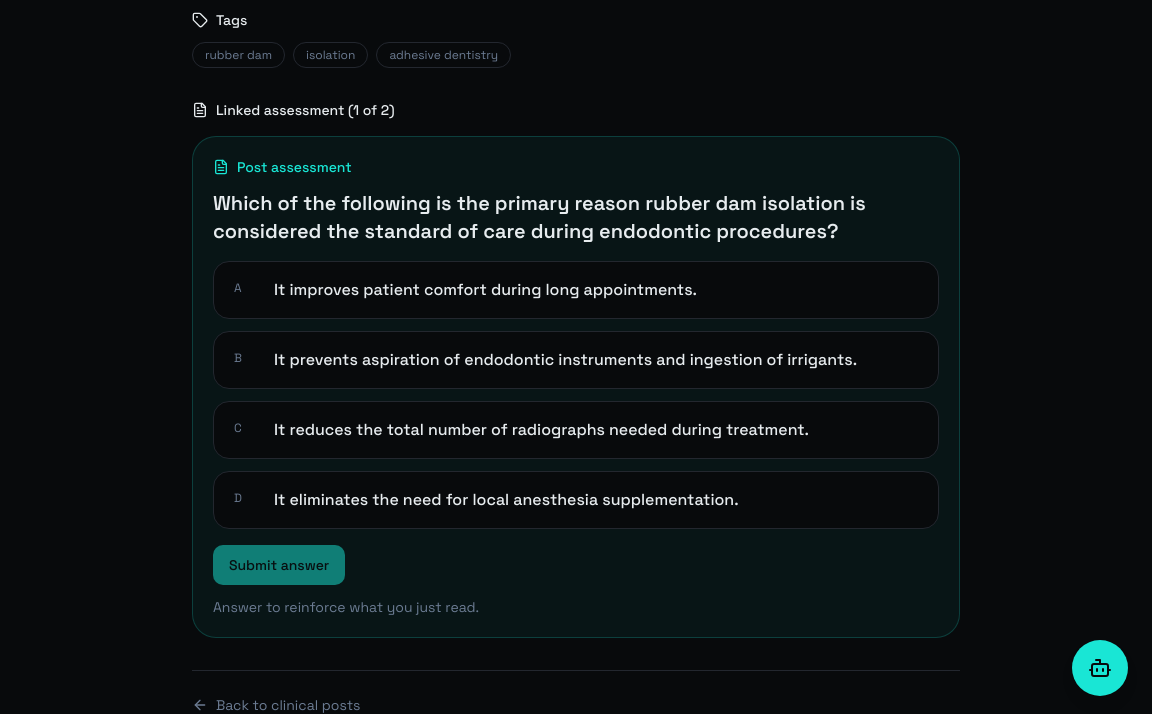
Test: clinical posts › renders linked assessment and records correct answer
The width and height of the screenshot is (1152, 714).
(page scrolled)
Expected: the heading "primary reason rubber dam isolation" is shown, [213, 190, 866, 244]
Click the button "prevents aspiration" at (576, 360), box [213, 331, 939, 389]
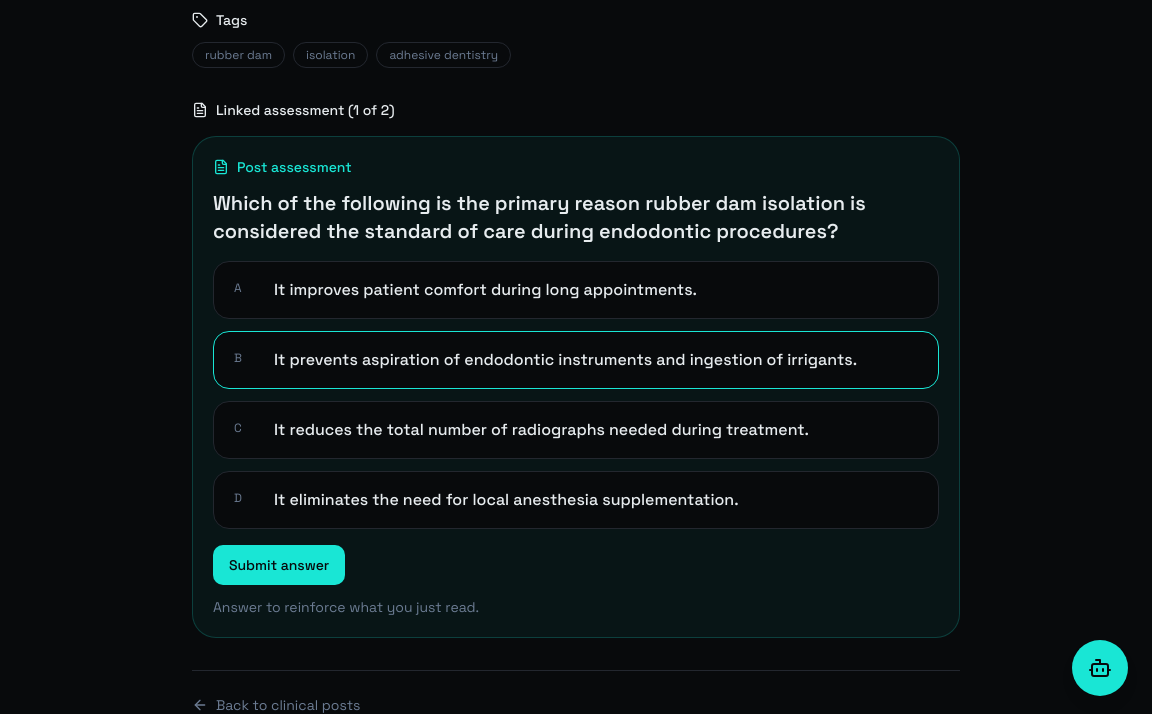
Click the button "Submit answer" at (279, 565), box [213, 545, 345, 585]
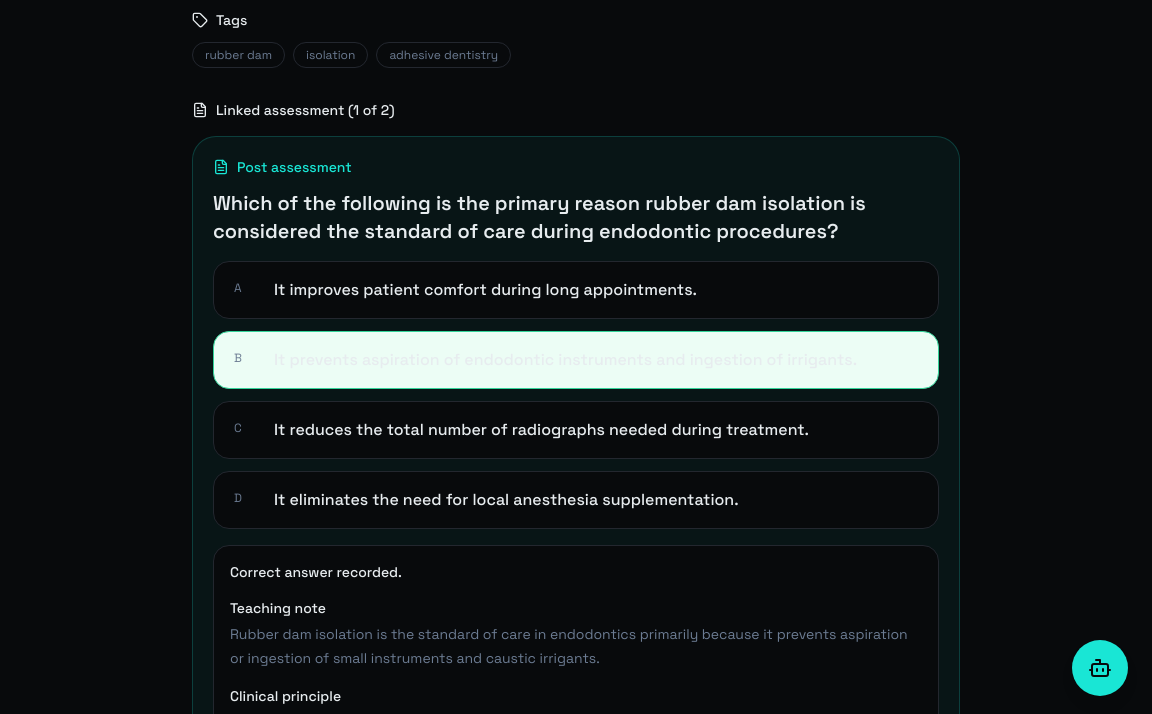
Expected: the text "Correct answer recorded." is shown, [230, 563, 402, 581]
